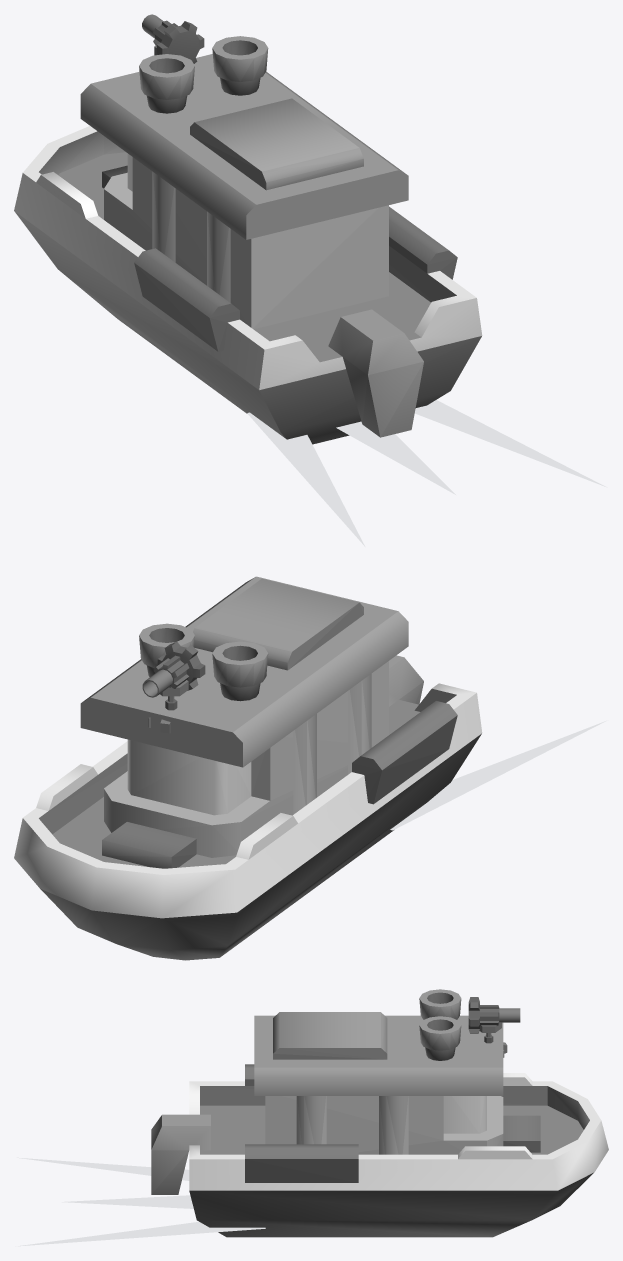
File: channel_ferry.glb
3 views of the same model, one above another, from view 1: azimuth 30°, elevation 25°; view 2: azimuth 150°, elevation 25°; view 3: azimuth 270°, elevation 25° (orthographic). The views are drawn at different scales.
Visible parts, largest first — view 1: Body, Wake, Turret; view 2: Body, Turret, Wake; view 3: Body, Wake, Turret.
Boxes of the visible parts, <box> form: Body: <box>14,36,482,444</box>; Wake: <box>247,400,607,546</box>; Turret: <box>142,14,204,63</box>; Body: <box>14,576,482,960</box>; Turret: <box>142,642,205,733</box>; Wake: <box>390,720,606,830</box>; Body: <box>151,989,608,1237</box>; Wake: <box>15,1157,265,1246</box>; Turret: <box>468,997,520,1057</box>.
Bounding box in the file's own units: 6.59 × 7.39 × 18.2.
Materials: 3 (1 with a texture image).
